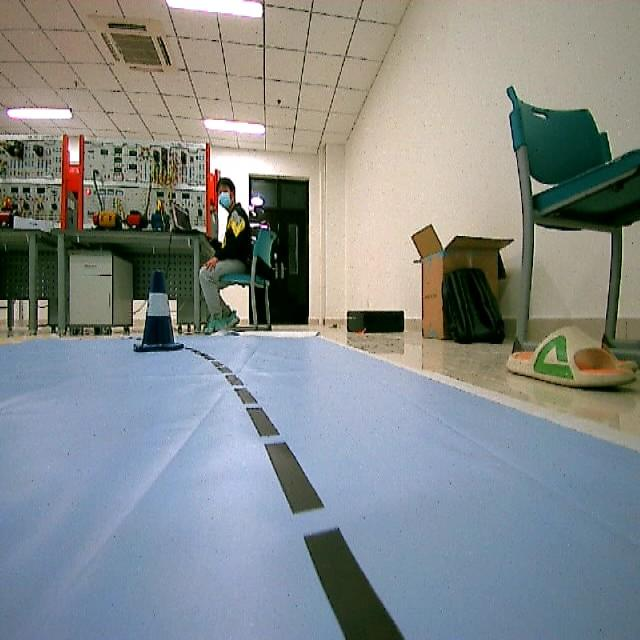obstacle: (134, 270, 181, 353)
